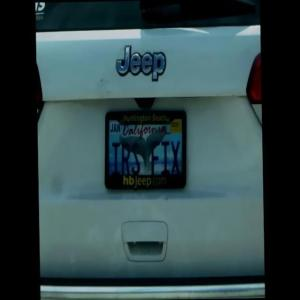Plate: (99, 98, 194, 200)
